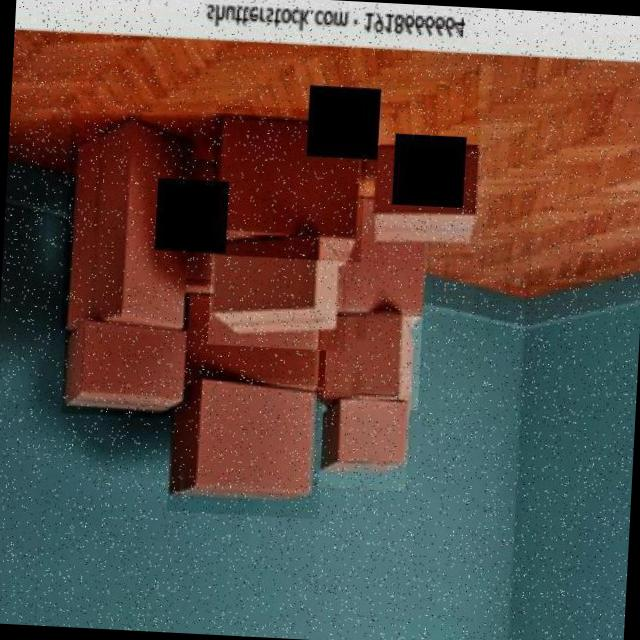box: (60, 112, 194, 336), (208, 105, 368, 262), (342, 142, 482, 316), (167, 372, 326, 520), (179, 278, 330, 403), (208, 223, 352, 352), (61, 304, 200, 420), (372, 132, 486, 256), (313, 296, 424, 410), (318, 392, 410, 492)
